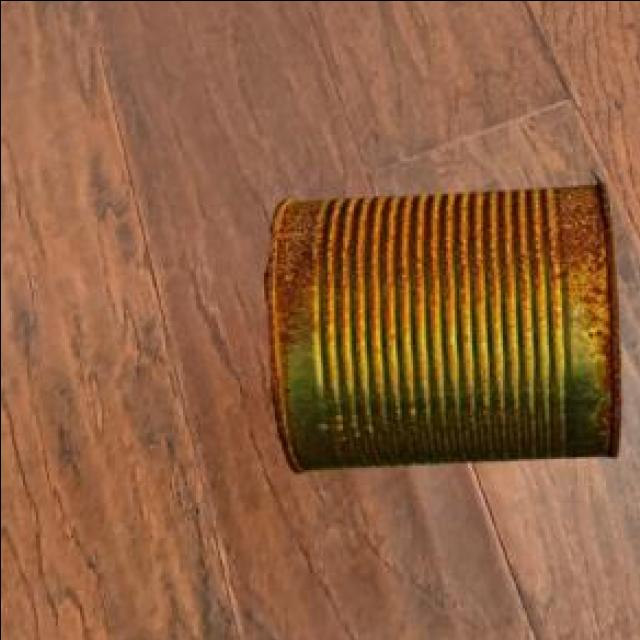logam: (262, 179, 617, 468)
